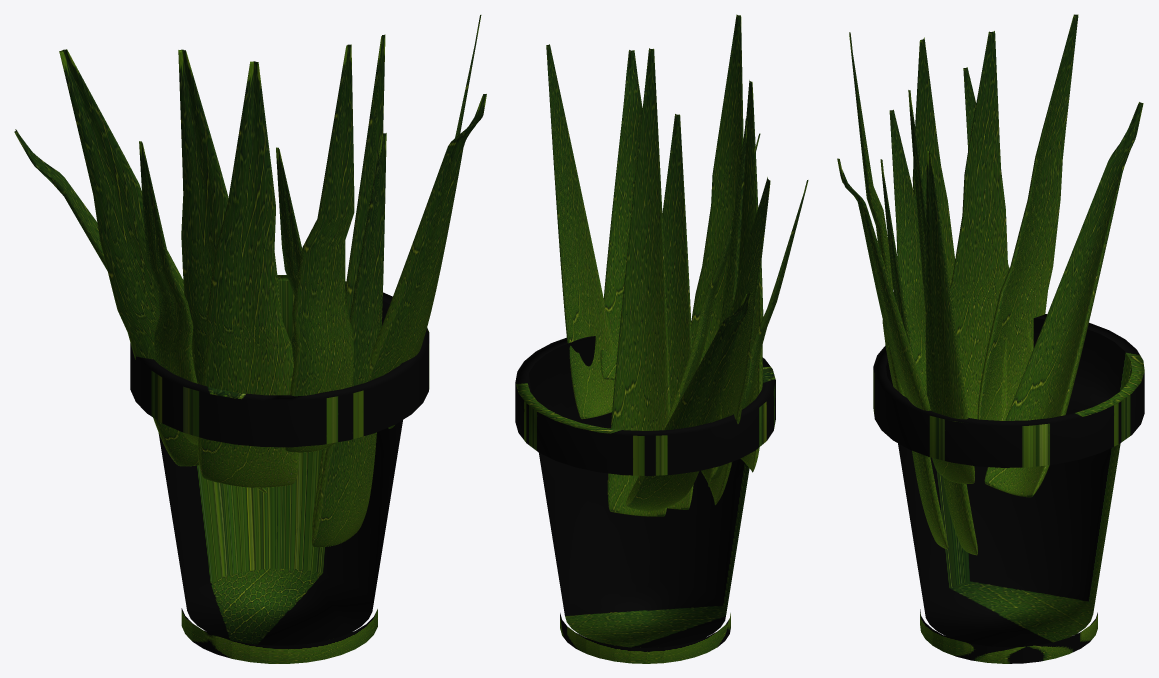
File: windowdecor.glb
3 renders of one model, left to right at view 1: azimuth 30°, elevation 25°; view 2: azimuth 150°, elevation 25°; view 3: azimuth 270°, elevation 25°, orthographic. The views are drawn at different scales.
Parts seen in each view (by area): view 1: plant pot.001; view 2: plant pot.001; view 3: plant pot.001.
Part boxes in pixels (x1,y1,x2,y2): plant pot.001: (14,15,486,663); plant pot.001: (515,14,808,663); plant pot.001: (837,14,1144,663).
Size of the model in its own units: 8.17 by 14.36 by 6.84.
1 material, 1 textured.
